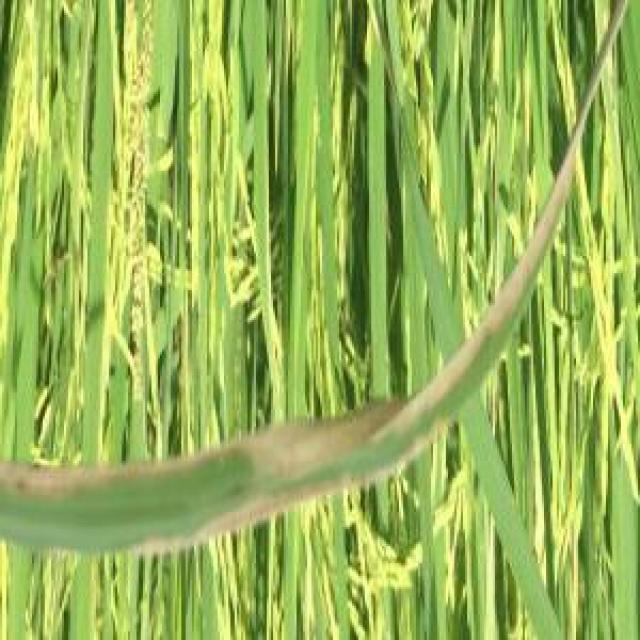leaf blight: (2, 322, 482, 551)
